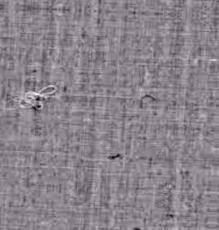snag: (16, 85, 60, 117)
